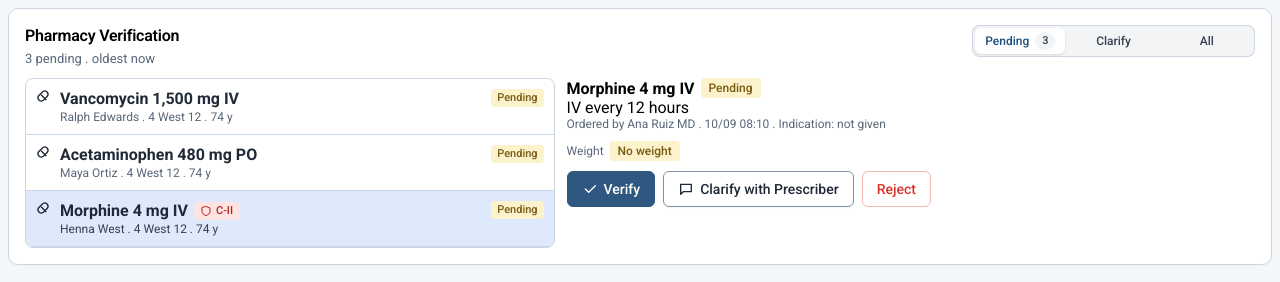
Test: PharmacyVerificationQueue › asks the prescriber to clarify
The width and height of the screenshot is (1280, 282).
Click the button "Clarify with Prescriber" at x=758, y=189, box [663,171,854,207]
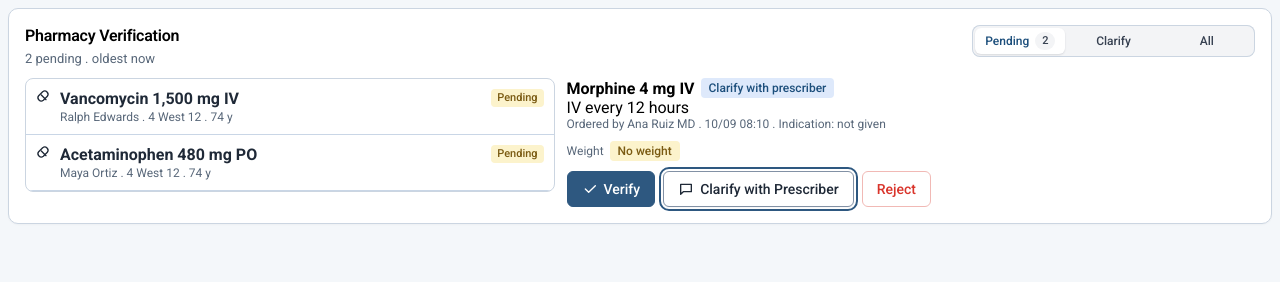
Click the radio button labelled "Clarify" at x=1114, y=41, box [1068,28,1159,54]
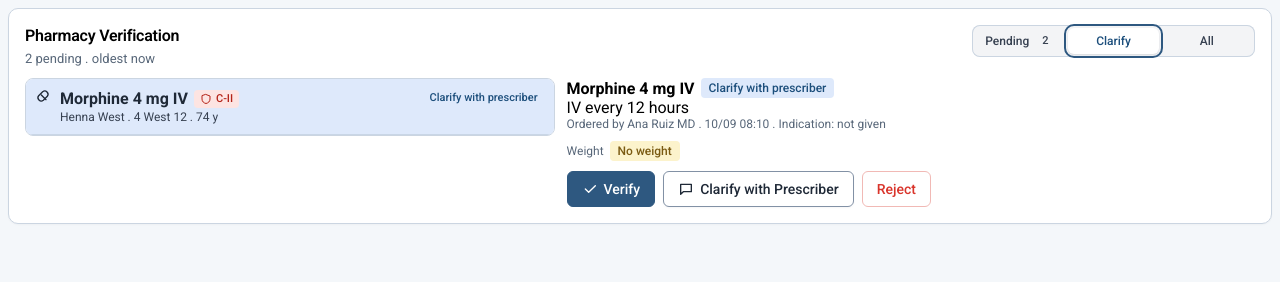
Now the number of options is 1, box [26,79,554,135]
Now the option shows "Morphine 4 mg IV", box [26,79,554,135]
